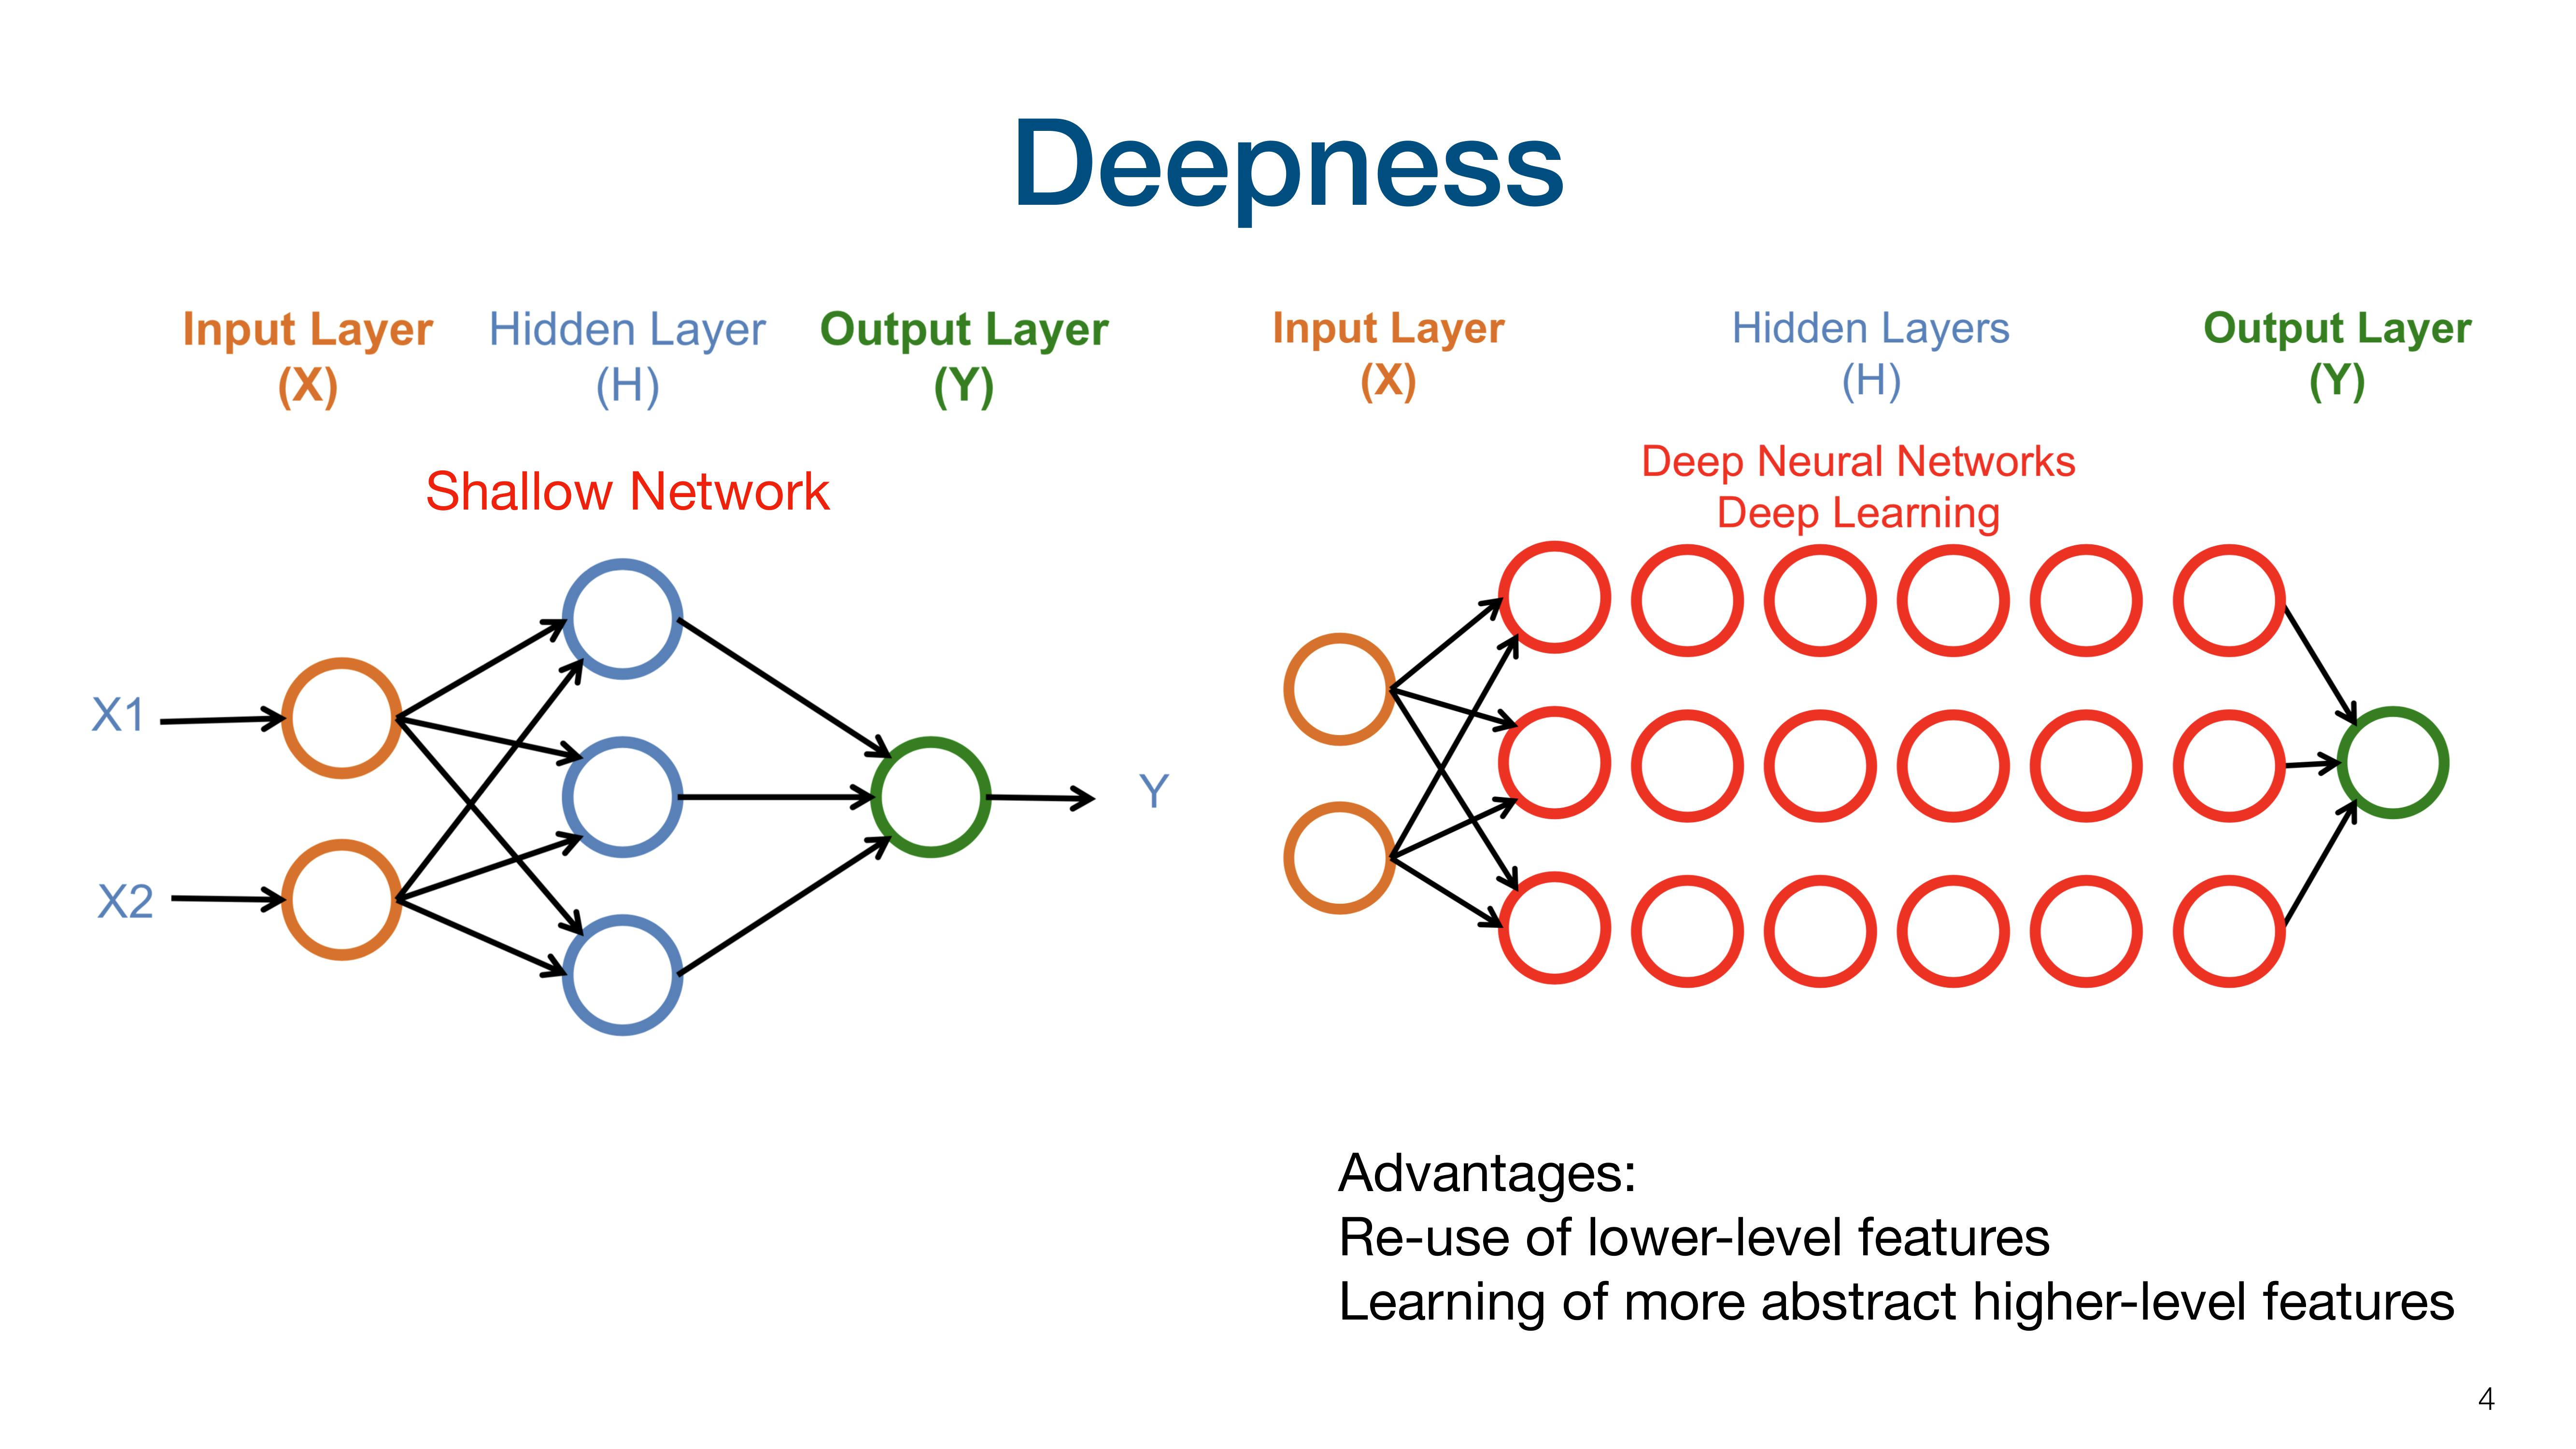Title: (1010, 96, 1583, 239)
